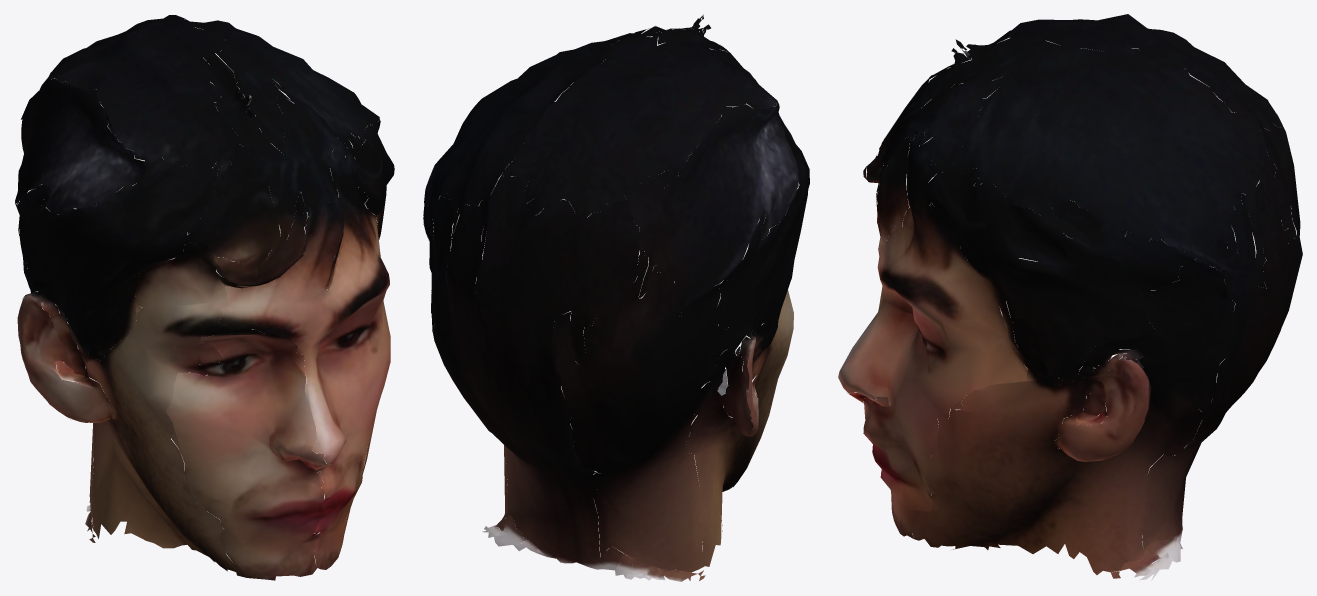
The model's file is bautiModel.glb.
The picture shows the model from 3 angles, left to right: view 1: azimuth 30°, elevation 25°; view 2: azimuth 150°, elevation 25°; view 3: azimuth 270°, elevation 25°; orthographic projection.
Visible parts, largest first — view 1: tmpsj0p995t.ply.001; view 2: tmpsj0p995t.ply.001; view 3: tmpsj0p995t.ply.001.
Part boxes in pixels (x1=…): tmpsj0p995t.ply.001: x1=15, y1=15, x2=394, y2=580; tmpsj0p995t.ply.001: x1=423, y1=14, x2=809, y2=581; tmpsj0p995t.ply.001: x1=838, y1=14, x2=1302, y2=580.
Size of the model in its own units: 0.8088 by 1.2 by 1.01.
1 material, 1 textured.
